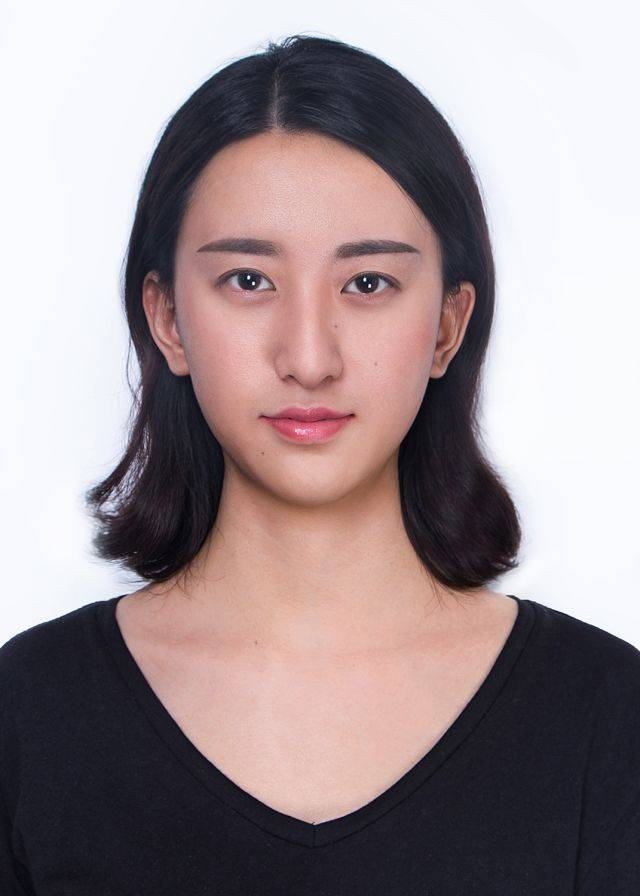unmask: (184, 154, 450, 474)
